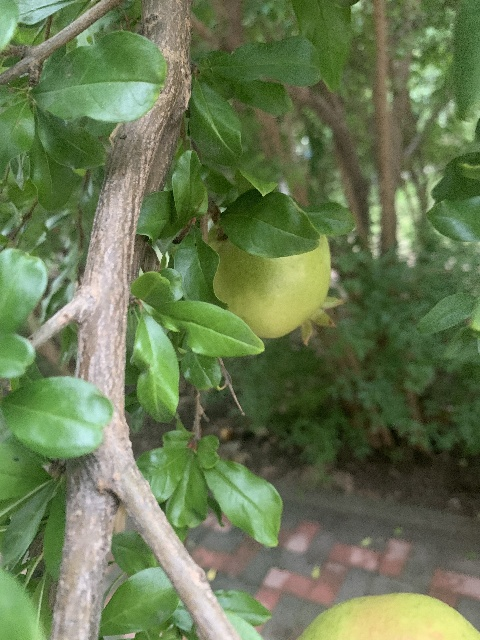mid-growth: (208, 221, 344, 346)
